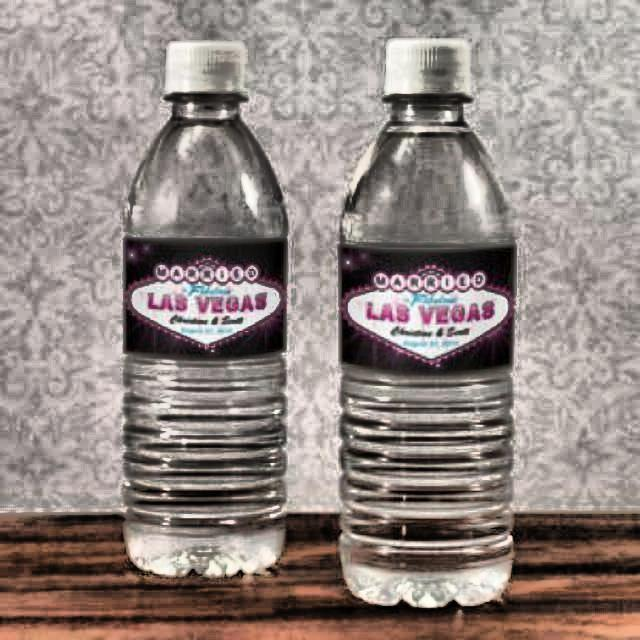Bottles: (108, 43, 299, 576)
